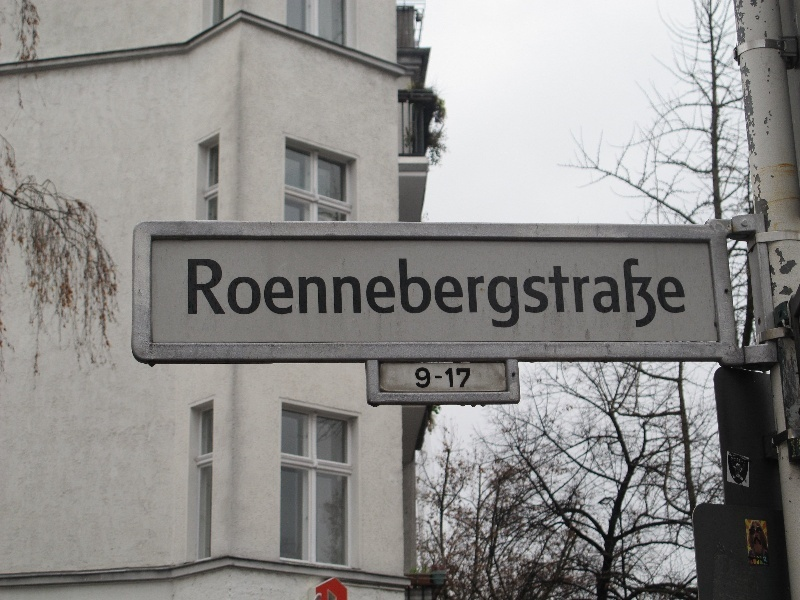text: (193, 257, 208, 332), (209, 257, 224, 332), (225, 257, 240, 332), (241, 257, 256, 332), (257, 257, 272, 332), (273, 257, 288, 332), (289, 257, 304, 332), (305, 257, 320, 332), (321, 257, 336, 332), (337, 257, 352, 332), (353, 257, 368, 332), (369, 257, 384, 332), (385, 257, 400, 332), (401, 257, 416, 332), (417, 257, 432, 332), (433, 257, 448, 332), (449, 257, 464, 332), (465, 257, 480, 332), (481, 257, 496, 332), (497, 257, 512, 332), (513, 257, 528, 332), (529, 257, 544, 332), (545, 257, 560, 332), (561, 257, 576, 332), (577, 257, 592, 332), (593, 257, 608, 332), (609, 257, 624, 332), (625, 257, 640, 332), (641, 257, 656, 332), (657, 257, 672, 332), (673, 257, 688, 332), (187, 257, 192, 332), (417, 367, 432, 389), (433, 367, 448, 389), (449, 367, 464, 389), (689, 257, 692, 332), (465, 367, 472, 389), (753, 556, 768, 565), (415, 367, 416, 389), (751, 556, 752, 565)
